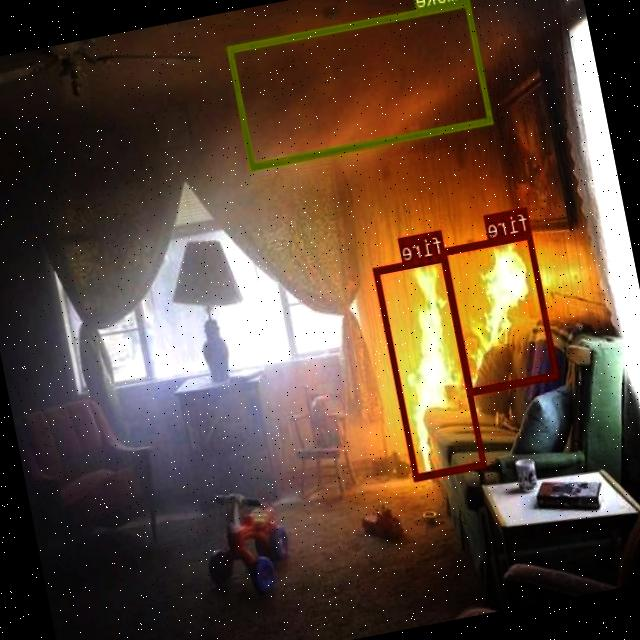fire: (375, 253, 488, 479), (442, 230, 560, 394)
smoke: (227, 0, 495, 170)
